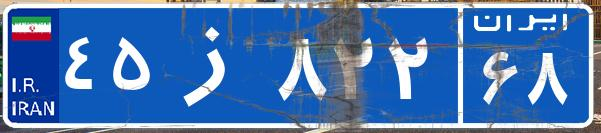2: (385, 28, 445, 110), (330, 28, 385, 110)
4: (57, 26, 110, 107)
5: (110, 28, 158, 105)
6: (475, 38, 525, 113)
8: (273, 28, 330, 110), (525, 38, 570, 115)
ز: (158, 15, 273, 115)
